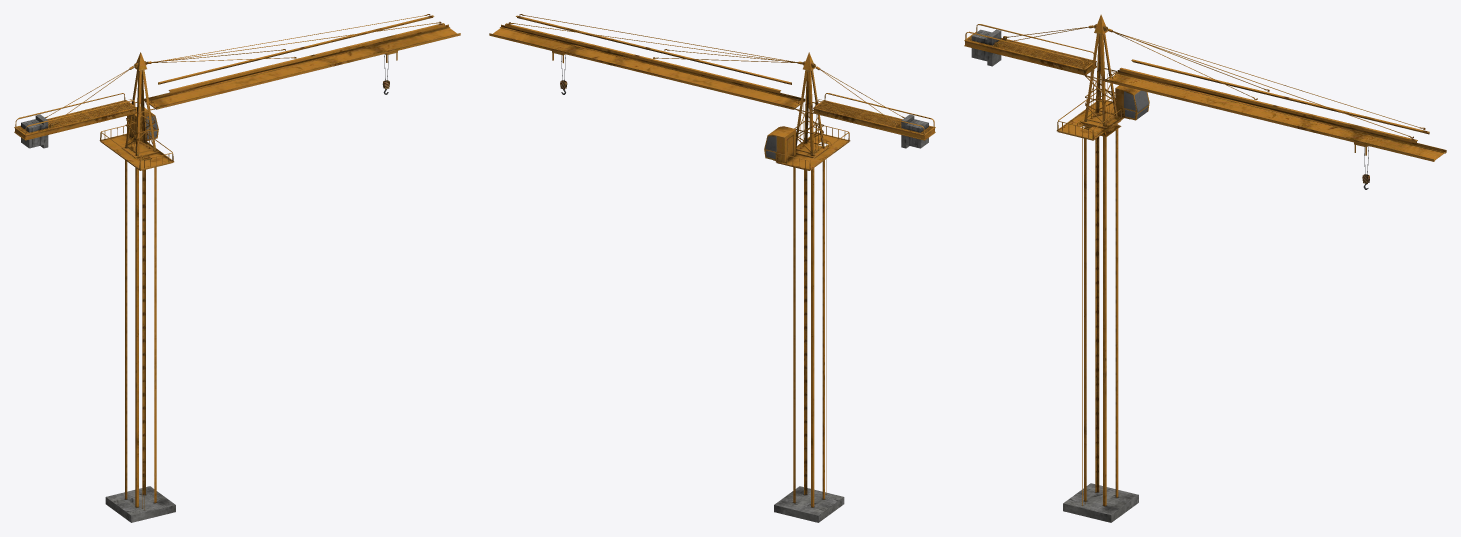
Rendered from crane_tower.glb.
3 views of the same model, side by side, from view 1: azimuth 30°, elevation 25°; view 2: azimuth 150°, elevation 25°; view 3: azimuth 330°, elevation 25° (orthographic). The views are drawn at different scales.
Visible parts, largest first — view 1: Cube.052, Cube.055, Plane.023, Cube.073, Cube.053, Cube.054, Cube.056, Cube.101, Plane.029; view 2: Cube.052, Cube.055, Plane.023, Cube.073, Cube.053, Cube.054, Cube.056, Cube.101, Cube.072; view 3: Cube.052, Cube.055, Plane.023, Cube.073, Cube.053, Cube.054, Cube.056, Plane.029, Cube.101.
Boxes of the visible parts, x1,y1,x2,y2 form: Cube.052: [125, 160, 156, 507]; Cube.055: [144, 15, 460, 109]; Plane.023: [149, 27, 456, 107]; Cube.073: [105, 486, 175, 522]; Cube.053: [125, 70, 156, 155]; Cube.054: [14, 100, 136, 140]; Cube.056: [16, 100, 134, 133]; Cube.101: [102, 134, 171, 168]; Plane.029: [137, 154, 144, 509]; Cube.052: [793, 160, 824, 507]; Cube.055: [489, 15, 805, 109]; Plane.023: [493, 28, 800, 107]; Cube.073: [774, 486, 844, 522]; Cube.053: [796, 70, 824, 155]; Cube.054: [813, 100, 935, 140]; Cube.056: [815, 100, 932, 133]; Cube.101: [778, 133, 847, 168]; Cube.072: [764, 126, 795, 162]; Cube.052: [1084, 129, 1118, 506]; Cube.055: [1105, 59, 1446, 161]; Plane.023: [1108, 73, 1444, 160]; Cube.073: [1063, 483, 1138, 522]; Cube.053: [1084, 33, 1117, 126]; Cube.054: [964, 32, 1096, 75]; Cube.056: [967, 36, 1092, 68]; Plane.029: [1077, 120, 1085, 505]; Cube.101: [1059, 100, 1120, 138].
Size of the model in its own units: 51.5 by 51.61 by 8.28.
7 materials, 7 textured.
